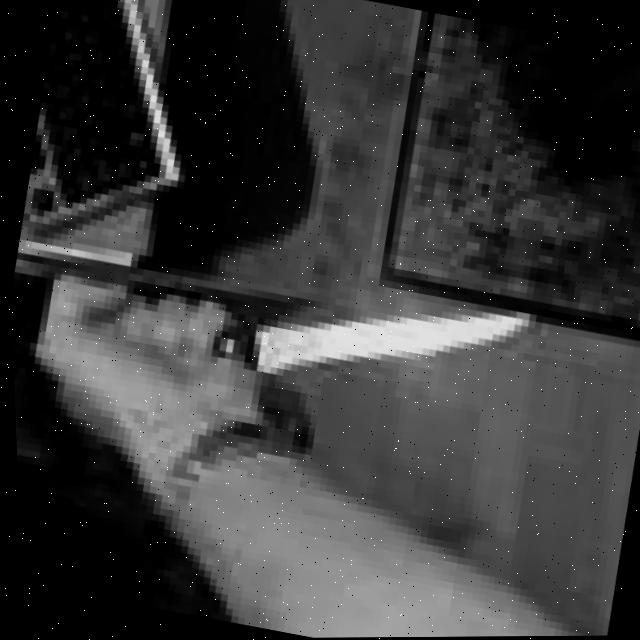knife: (179, 208, 560, 477)
